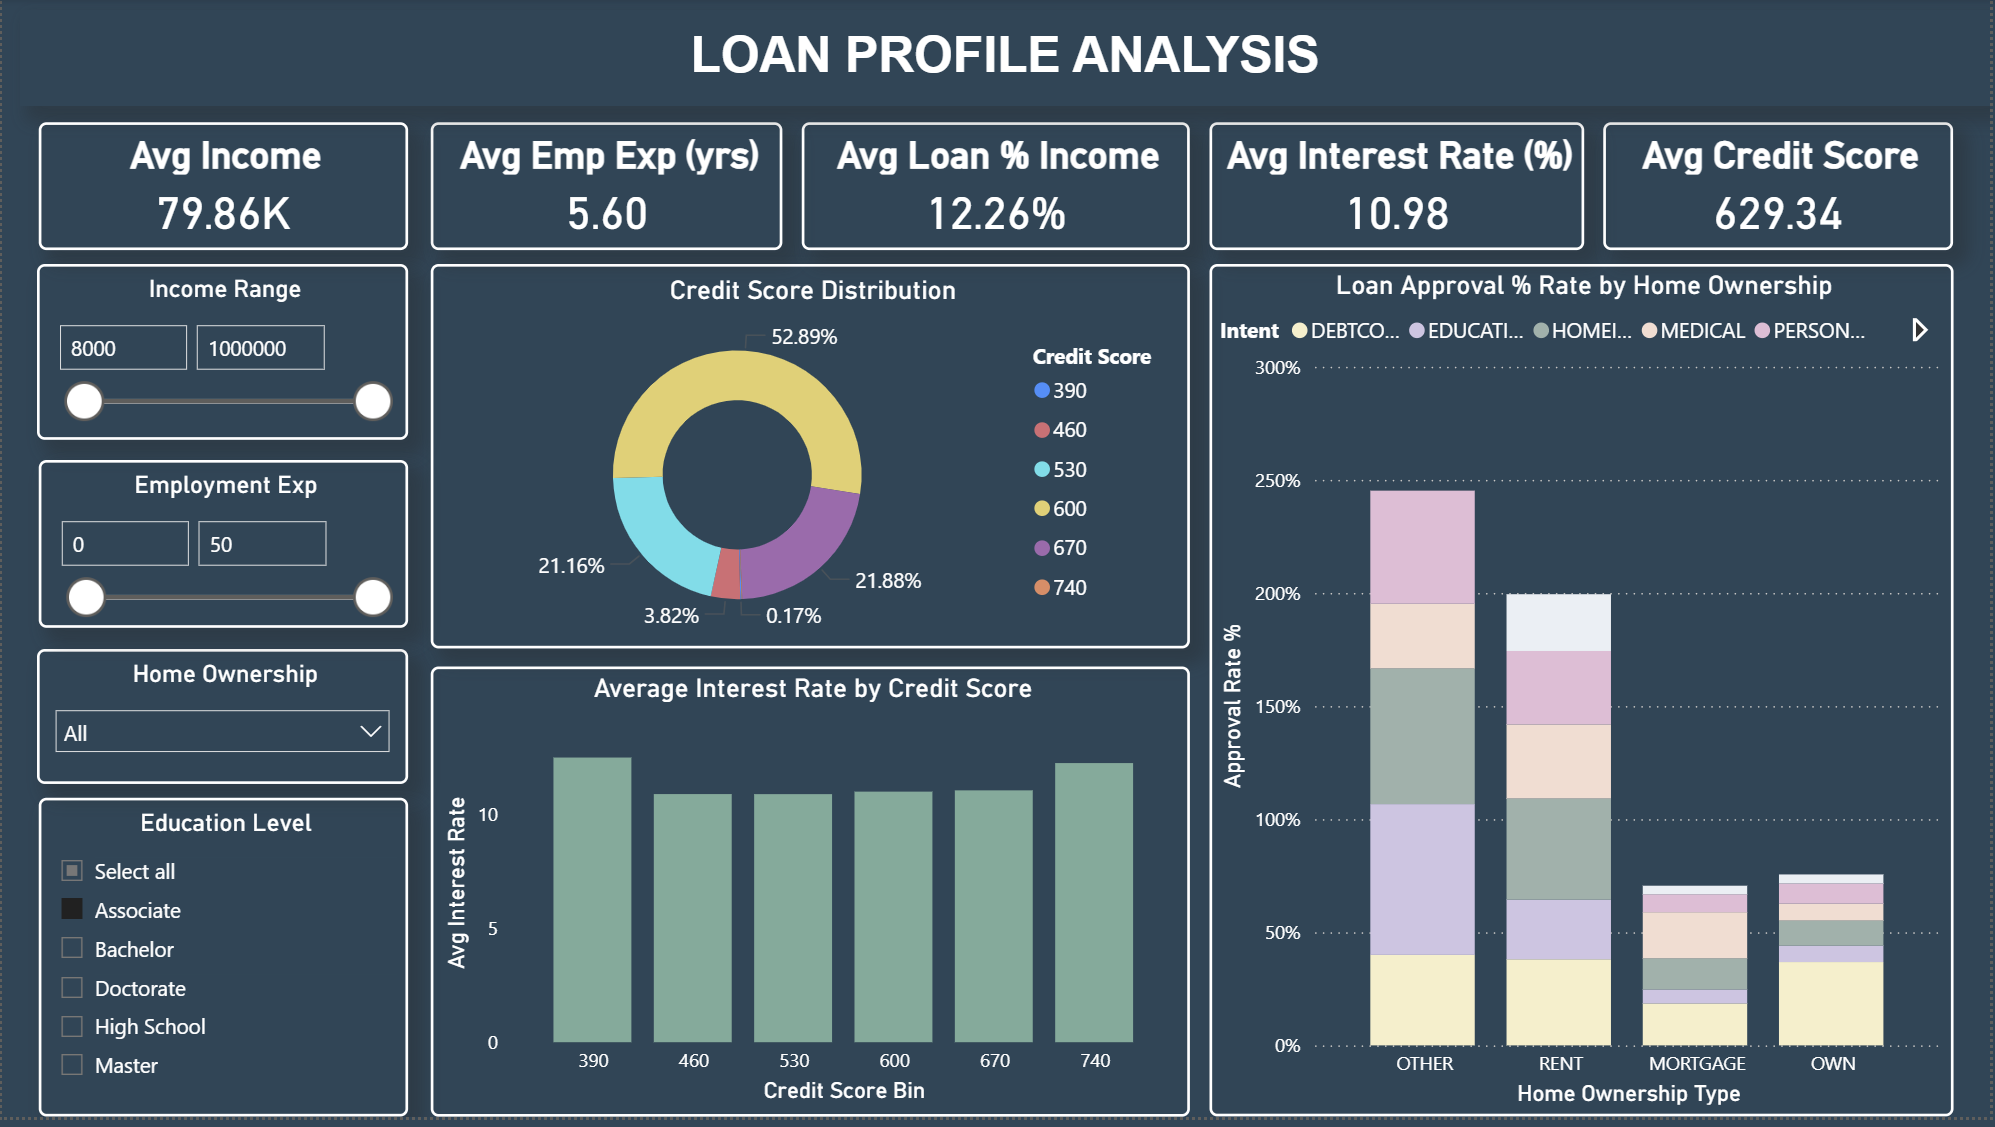

What the dashboard file says about the page in this screenshot:
{"tool":"powerbi","page":{"name":"Page 2","canvas":[1280,720],"ordinal":1},"visuals":[{"type":"card","title":"Avg Emp Exp (yrs)","fields":{"Values":["Avg(loan_data_dashbboard.person_emp_exp)"]},"box":[276.1,79.6,226.4,82.1],"z":0},{"type":"card","title":"Avg Loan % Income","fields":{"Values":["loan_data_dashbboard.Avg Loan % Income"]},"box":[514.6,80.2,250,82.1],"z":1000},{"type":"card","title":"Avg Interest Rate (%)","fields":{"Values":["Avg(loan_data_dashbboard.loan_int_rate)"]},"box":[777,80.2,241.3,82.1],"z":2000},{"type":"card","title":"Avg Credit Score","fields":{"Values":["Avg(loan_data_dashbboard.credit_score)"]},"box":[1030.8,80.2,225.1,82.1],"z":3000},{"type":"textbox","box":[10.9,8.2,1268.3,61.4],"z":4000},{"type":"card","title":"Avg Income","fields":{"Values":["Avg(loan_data_dashbboard.person_income_clipped)"]},"box":[23.6,79.6,237.6,82.1],"z":5000},{"type":"slicer","title":"Home Ownership","fields":{"Values":["loan_data_dashbboard.person_home_ownership"]},"box":[22.4,419.1,238.8,87.1],"z":6000},{"type":"slicer","title":"Income Range","fields":{"Values":["loan_data_dashbboard.person_income_clipped"]},"box":[22.4,171.6,238.8,113.2],"z":7000},{"type":"slicer","title":"Employment Exp","fields":{"Values":["loan_data_dashbboard.person_emp_exp"]},"box":[23.6,297.3,237.6,108.2],"z":8000},{"type":"slicer","title":"Education Level","fields":{"Values":["loan_data_dashbboard.person_education"]},"box":[23.6,514.9,237.6,205.2],"z":9000},{"type":"donutChart","title":"Credit Score Distribution","fields":{"Y":["loan_data_dashbboard.Total Loans"],"Category":["loan_data_dashbboard.Credit Score Bin"]},"box":[276.1,171.6,488.8,247.5],"z":10000},{"type":"columnChart","title":"Loan Approval % Rate by Home Ownership","fields":{"Category":["loan_data_dashbboard.person_home_ownership"],"Y":["loan_data_dashbboard.Approval Rate %"],"Series":["loan_data_dashbboard.loan_intent"]},"box":[777.3,171.6,478.8,548.5],"z":11000},{"type":"clusteredColumnChart","title":"Average Interest Rate by Credit Score","fields":{"Category":["loan_data_dashbboard.Credit Score Bin"],"Y":["Avg(loan_data_dashbboard.loan_int_rate)"]},"box":[276.1,430.3,488.8,289.8],"z":12000}]}

Visuals, with their boxes in screenshot pixels (x1, y1, x2, y2), scaled from the page's 1280x720 canvas onto the 1995x1127 screenshot:
"Avg Emp Exp (yrs)" card: (x1=430, y1=125, x2=783, y2=253)
"Avg Loan % Income" card: (x1=802, y1=126, x2=1192, y2=254)
"Avg Interest Rate (%)" card: (x1=1211, y1=126, x2=1587, y2=254)
"Avg Credit Score" card: (x1=1607, y1=126, x2=1957, y2=254)
textbox: (x1=17, y1=13, x2=1994, y2=109)
"Avg Income" card: (x1=37, y1=125, x2=407, y2=253)
"Home Ownership" slicer: (x1=35, y1=656, x2=407, y2=792)
"Income Range" slicer: (x1=35, y1=269, x2=407, y2=446)
"Employment Exp" slicer: (x1=37, y1=465, x2=407, y2=635)
"Education Level" slicer: (x1=37, y1=806, x2=407, y2=1126)
"Credit Score Distribution" donutChart: (x1=430, y1=269, x2=1192, y2=656)
"Loan Approval % Rate by Home Ownership" columnChart: (x1=1211, y1=269, x2=1958, y2=1126)
"Average Interest Rate by Credit Score" clusteredColumnChart: (x1=430, y1=674, x2=1192, y2=1126)
